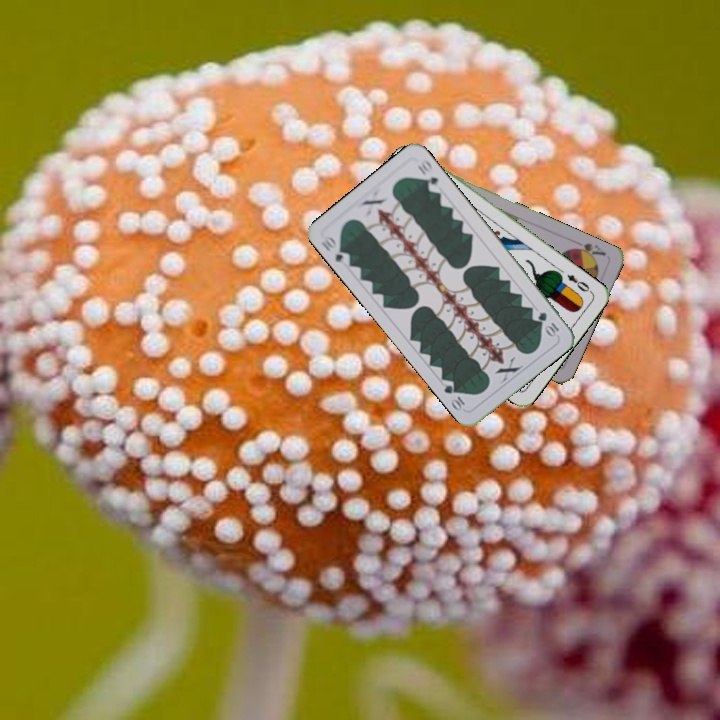EO: (563, 270, 595, 295)
G10: (317, 231, 353, 265), (534, 308, 562, 339)
SA: (568, 239, 608, 262)
